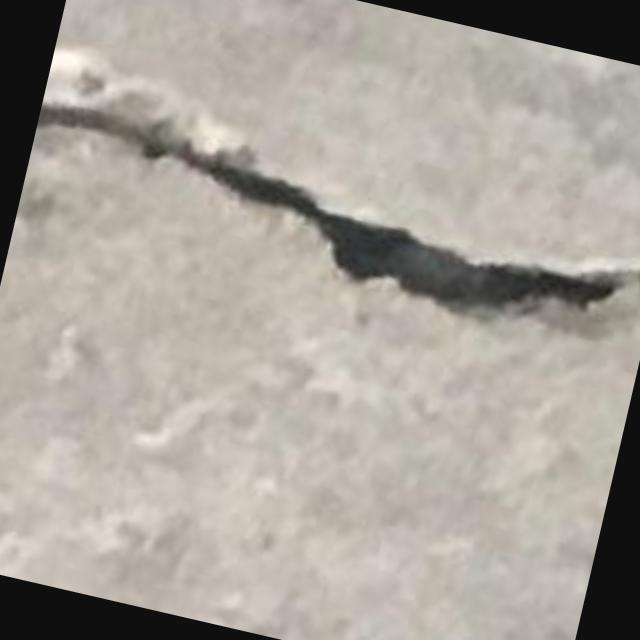crack: (37, 67, 620, 315)
